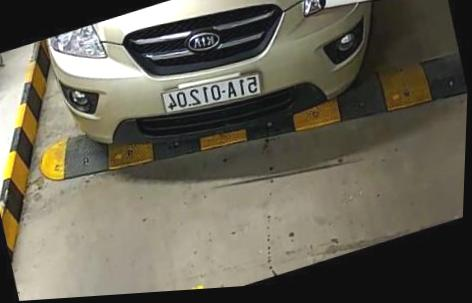License_Plate: (153, 64, 266, 128)
